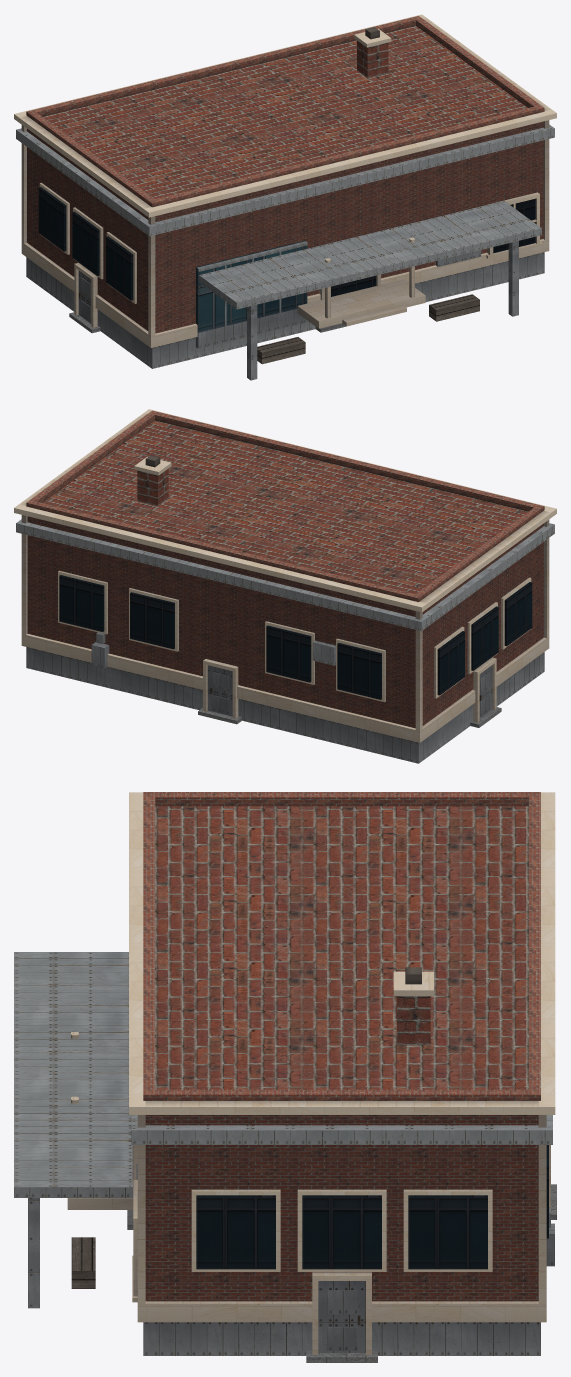
File: ferry-waiting-room_lod0.gltf
3 views of the same model, one above another, from view 1: azimuth 30°, elevation 25°; view 2: azimuth 150°, elevation 25°; view 3: azimuth 270°, elevation 25° (orthographic). The views are drawn at different scales.
Parts seen in each view (by area): view 1: ferry-waiting-room_upper, ferry-waiting-room__v4_stone_detail, ferry-waiting-room__canopy, ferry-waiting-room__cornice, ferry-waiting-room_base, ferry-waiting-room_fen_07-glass-curtain-blue_3_t, ferry-waiting-room__parapet_back, ferry-waiting-room__parapet_front, ferry-waiting-room_fen_07-glass-curtain-blue_1, ferry-waiting-room_fen_04-limestone_2, ferry-waiting-room_fen_14-steel-panel_0, ferry-waiting-room__parapet_right (+6 smaller); view 2: ferry-waiting-room_upper, ferry-waiting-room__v4_stone_detail, ferry-waiting-room_fen_07-glass-curtain-blue_3_t, ferry-waiting-room_base, ferry-waiting-room__cornice, ferry-waiting-room_fen_04-limestone_2, ferry-waiting-room__parapet_front, ferry-waiting-room__parapet_back, ferry-waiting-room_fen_14-steel-panel_0, ferry-waiting-room__parapet_right, ferry-waiting-room__parapet_left, ferry-waiting-room__v4_brick_detail (+2 smaller); view 3: ferry-waiting-room_upper, ferry-waiting-room__canopy, ferry-waiting-room__v4_stone_detail, ferry-waiting-room_fen_07-glass-curtain-blue_3_t, ferry-waiting-room_base, ferry-waiting-room__cornice, ferry-waiting-room_fen_04-limestone_2, ferry-waiting-room__parapet_left, ferry-waiting-room__parapet_right, ferry-waiting-room__parapet_front, ferry-waiting-room__parapet_back, ferry-waiting-room_fen_14-steel-panel_0 (+5 smaller).
Part boxes in pixels (x1=…): ferry-waiting-room_upper: x1=27, y1=26, x2=543, y2=333; ferry-waiting-room__v4_stone_detail: x1=14, y1=14, x2=556, y2=347; ferry-waiting-room__canopy: x1=199, y1=201, x2=541, y2=309; ferry-waiting-room__cornice: x1=16, y1=124, x2=554, y2=236; ferry-waiting-room_base: x1=26, y1=252, x2=544, y2=368; ferry-waiting-room_fen_07-glass-curtain-blue_3_t: x1=38, y1=187, x2=535, y2=300; ferry-waiting-room__parapet_back: x1=26, y1=15, x2=421, y2=117; ferry-waiting-room__parapet_front: x1=148, y1=105, x2=544, y2=207; ferry-waiting-room_fen_07-glass-curtain-blue_1: x1=196, y1=240, x2=307, y2=332; ferry-waiting-room_fen_04-limestone_2: x1=39, y1=182, x2=542, y2=327; ferry-waiting-room_fen_14-steel-panel_0: x1=78, y1=241, x2=307, y2=348; ferry-waiting-room__parapet_right: x1=416, y1=18, x2=540, y2=107; ferry-waiting-room_upper: x1=27, y1=420, x2=543, y2=728; ferry-waiting-room__v4_stone_detail: x1=14, y1=409, x2=556, y2=742; ferry-waiting-room_fen_07-glass-curtain-blue_3_t: x1=59, y1=575, x2=532, y2=699; ferry-waiting-room_base: x1=26, y1=647, x2=544, y2=763; ferry-waiting-room__cornice: x1=16, y1=519, x2=554, y2=631; ferry-waiting-room_fen_04-limestone_2: x1=58, y1=570, x2=531, y2=722; ferry-waiting-room__parapet_front: x1=149, y1=410, x2=544, y2=512; ferry-waiting-room__parapet_back: x1=26, y1=500, x2=422, y2=602; ferry-waiting-room_fen_14-steel-panel_0: x1=91, y1=632, x2=492, y2=718; ferry-waiting-room__parapet_right: x1=30, y1=413, x2=154, y2=502; ferry-waiting-room__parapet_left: x1=416, y1=507, x2=540, y2=598; ferry-waiting-room__v4_brick_detail: x1=137, y1=468, x2=168, y2=506; ferry-waiting-room_upper: x1=145, y1=806, x2=538, y2=1301; ferry-waiting-room__canopy: x1=14, y1=952, x2=133, y2=1197; ferry-waiting-room__v4_stone_detail: x1=67, y1=792, x2=555, y2=1322; ferry-waiting-room_fen_07-glass-curtain-blue_3_t: x1=196, y1=1145, x2=548, y2=1269; ferry-waiting-room_base: x1=143, y1=1322, x2=540, y2=1355; ferry-waiting-room__cornice: x1=131, y1=1115, x2=552, y2=1144; ferry-waiting-room_fen_04-limestone_2: x1=132, y1=1145, x2=550, y2=1354; ferry-waiting-room__parapet_left: x1=155, y1=792, x2=528, y2=806; ferry-waiting-room__parapet_right: x1=155, y1=1089, x2=528, y2=1100; ferry-waiting-room__parapet_front: x1=143, y1=792, x2=155, y2=1100; ferry-waiting-room__parapet_back: x1=529, y1=792, x2=540, y2=1100; ferry-waiting-room_fen_14-steel-panel_0: x1=318, y1=1208, x2=554, y2=1352.
Bounding box in the file's own units: 18.8 × 8.84 × 13.65.
